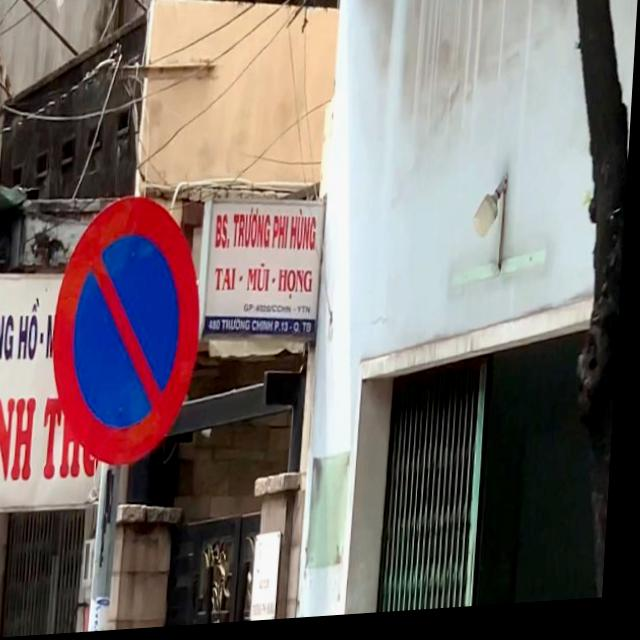Cam do xe: (51, 189, 210, 475)
